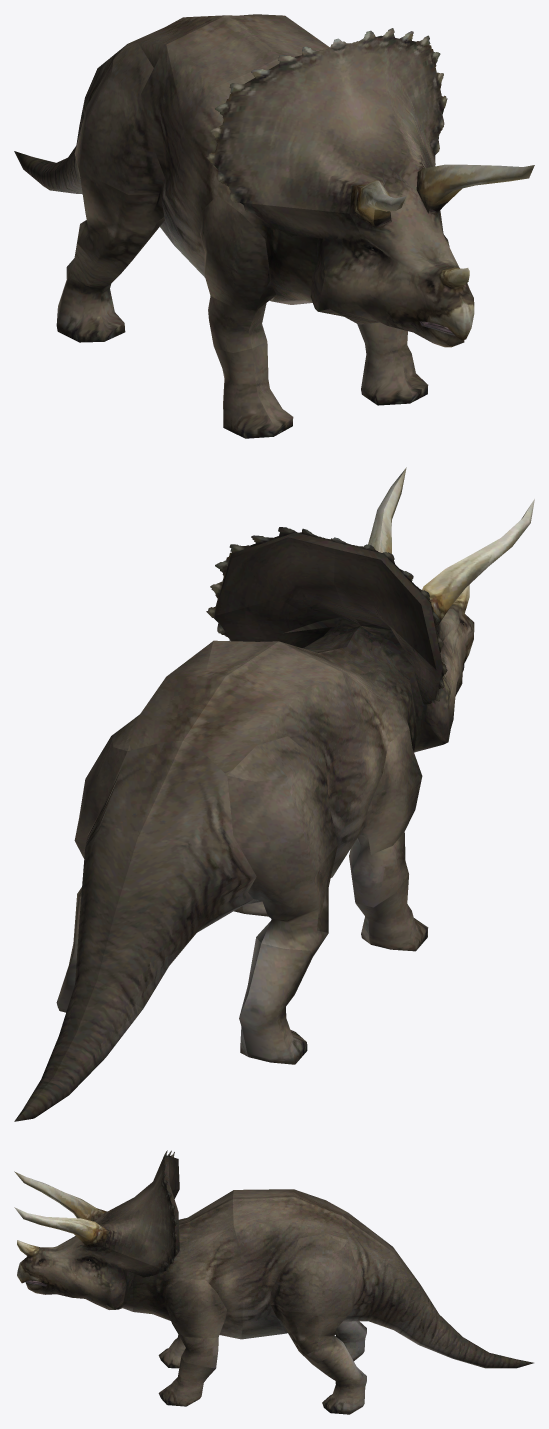
The model's file is trike.obj.
3 renders of one model, top to bottom at view 1: azimuth 30°, elevation 25°; view 2: azimuth 150°, elevation 25°; view 3: azimuth 270°, elevation 25°, orthographic. The views are drawn at different scales.
Parts seen in each view (by area): view 1: d_Head_mesh; view 2: d_Head_mesh; view 3: d_Head_mesh.
Part boxes in pixels (x1,y1,x2,y2): d_Head_mesh: (14, 14, 534, 438); d_Head_mesh: (14, 467, 534, 1121); d_Head_mesh: (14, 1150, 533, 1414).
Size of the model in its own units: 0.8433 by 1.25 by 2.72.
Materials: 1 (1 with a texture image).
